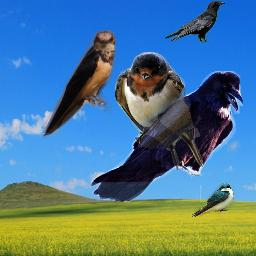Crow: (91, 71, 243, 202), (165, 1, 225, 43)
Swallow: (115, 52, 203, 168), (43, 30, 116, 139), (190, 183, 234, 217)
